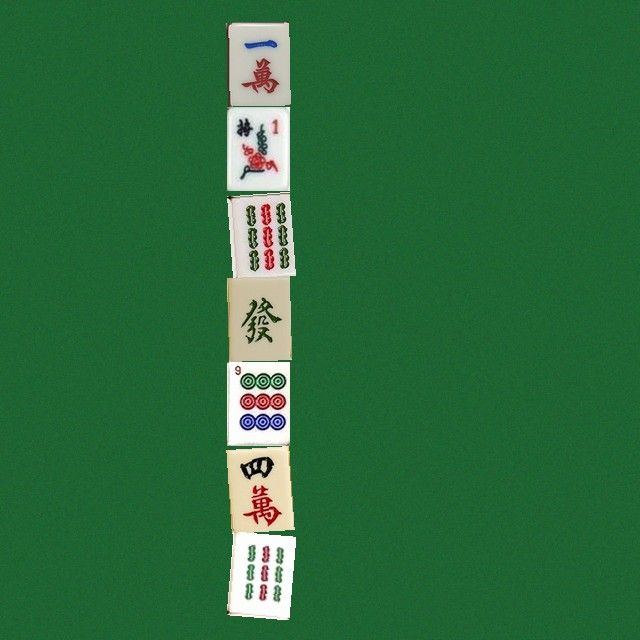tile: (226, 21, 289, 105), (226, 106, 289, 190), (226, 191, 289, 275), (226, 276, 289, 360), (226, 361, 289, 445), (226, 446, 289, 530), (226, 531, 289, 615)
